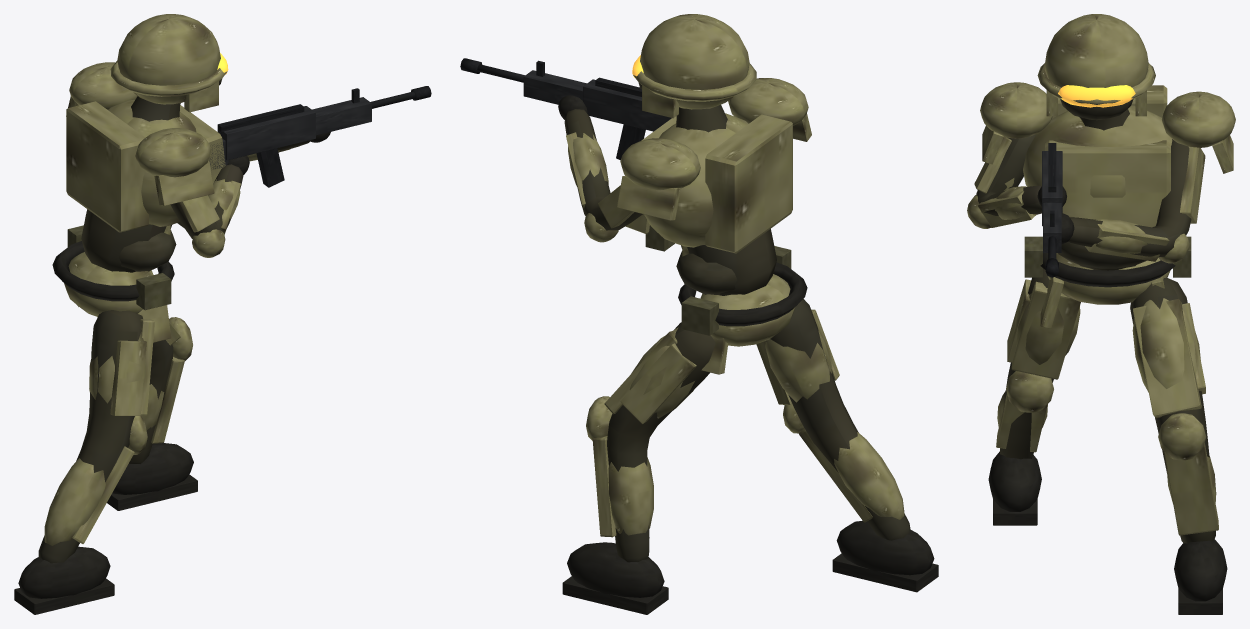
File: unit_marine_0.glb
3 views of the same model, side by side, from view 1: azimuth 30°, elevation 25°; view 2: azimuth 150°, elevation 25°; view 3: azimuth 270°, elevation 25° (orthographic). The views are drawn at different scales.
Parts seen in each view (by area): view 1: unit_marine_0; view 2: unit_marine_0; view 3: unit_marine_0.
Part boxes in pixels (box(x1,y1,x2,y2)): unit_marine_0: box(14, 14, 431, 614); unit_marine_0: box(460, 14, 938, 614); unit_marine_0: box(967, 14, 1235, 614).
Size of the model in its own units: 1.54 by 1.8 by 0.7814.
Materials: 7 (6 with a texture image).
